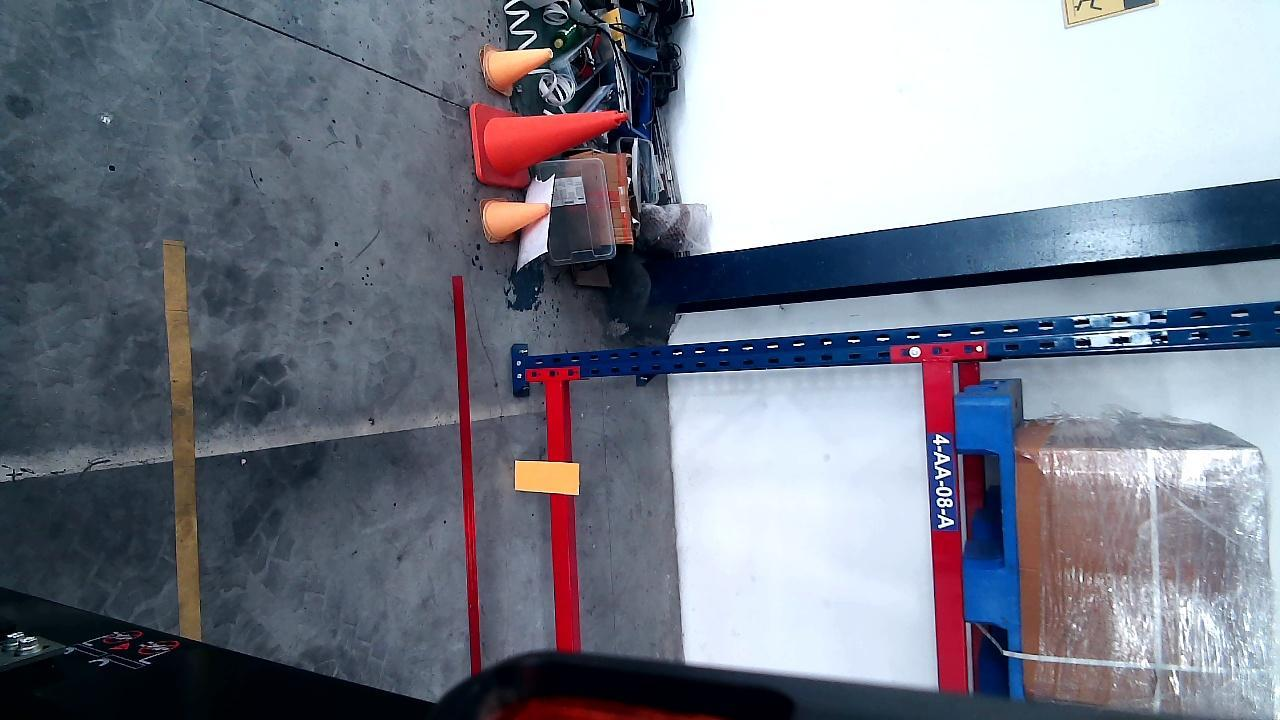red_line: (447, 275, 482, 677)
yellow_line: (169, 234, 200, 639)
